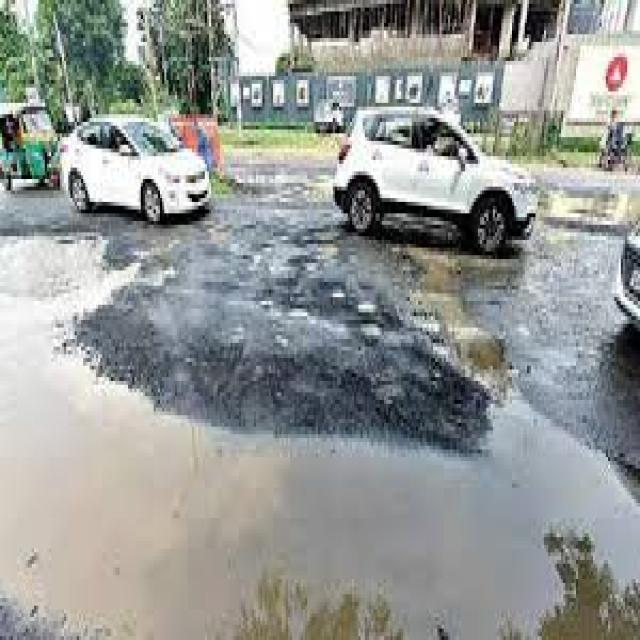Pothole: (0, 194, 640, 640)
